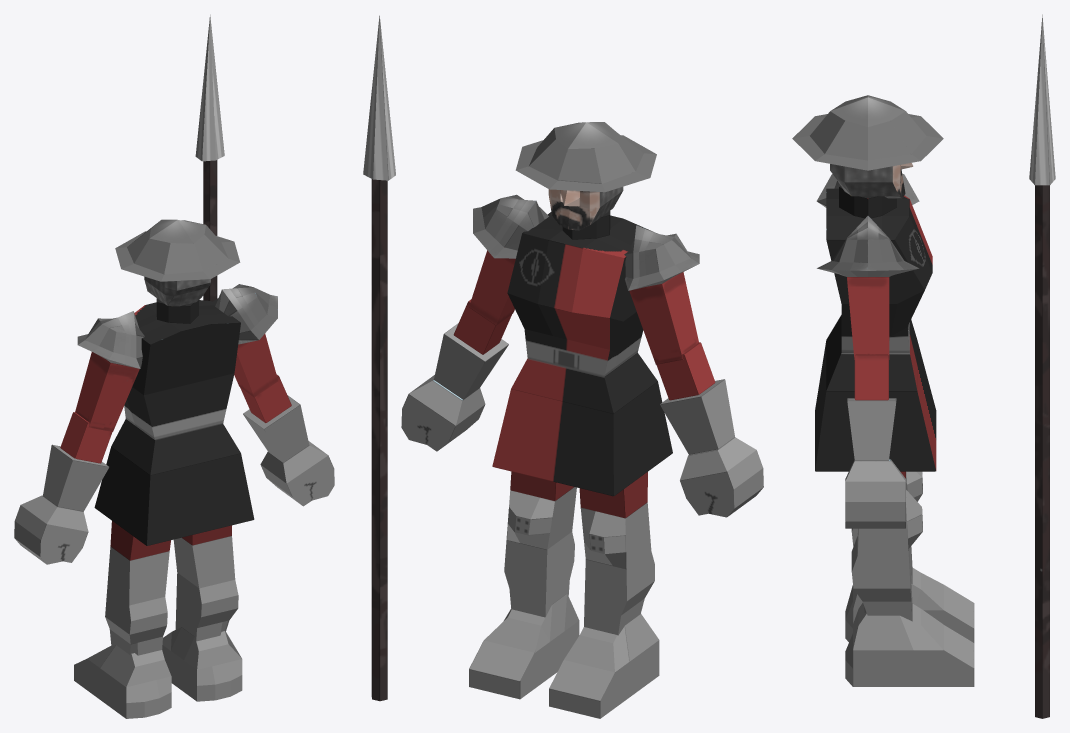
File: footman.fbx
3 views of the same model, side by side, from view 1: azimuth 30°, elevation 25°; view 2: azimuth 150°, elevation 25°; view 3: azimuth 270°, elevation 25° (orthographic). The views are drawn at different scales.
Parts seen in each view (by area): view 1: Torso, Tasset, ShinL, Helmet, BicepL, ShinR, FootL, FootR, ForearmL, BicepR, HandL, ForearmR (+5 smaller); view 2: Torso, Tasset, Shaft, ShinL, FootL, ShinR, Helmet, BicepL, FootR, ForearmL, BicepR, HandL (+6 smaller); view 3: Torso, FootR, Shaft, Helmet, Tasset, BicepR, ShinR, ForearmR, HandR, FootL, Spearhead, Head (+2 smaller).
Boxes of the visible parts, box(x1,y1,x2,y2) form: Torso: box(111, 298, 240, 475); Tasset: box(94, 446, 254, 545); ShinL: box(105, 546, 169, 655); Helmet: box(115, 219, 240, 281); BicepL: box(75, 311, 144, 431); ShinR: box(173, 536, 238, 641); FootL: box(74, 645, 171, 718); FootR: box(162, 627, 242, 701); ForearmL: box(43, 412, 112, 511); BicepR: box(211, 284, 278, 397); HandL: box(14, 495, 88, 564); ForearmR: box(240, 374, 309, 462); Torso: box(507, 211, 657, 413); Tasset: box(492, 381, 672, 496); Shaft: box(371, 179, 387, 701); ShinL: box(580, 502, 654, 635); FootL: box(549, 614, 659, 718); ShinR: box(504, 487, 576, 617); Helmet: box(515, 122, 656, 192); BicepL: box(624, 225, 699, 364); FootR: box(469, 593, 579, 699); ForearmL: box(656, 342, 734, 454); BicepR: box(469, 194, 548, 325); HandL: box(680, 437, 763, 517); Torso: box(826, 186, 932, 390); FootR: box(845, 603, 974, 686); Shaft: box(1035, 185, 1049, 718); Helmet: box(792, 95, 943, 170); Tasset: box(815, 340, 936, 471); BicepR: box(817, 216, 919, 359); ShinR: box(851, 485, 922, 621); ForearmR: box(847, 354, 896, 460); HandR: box(845, 459, 905, 528); FootL: box(845, 568, 974, 642); Spearhead: box(1029, 14, 1055, 185); Head: box(830, 163, 913, 198).
Bounding box in the file's own units: 325 × 638 × 217.
Materials: 10 (10 with a texture image).
